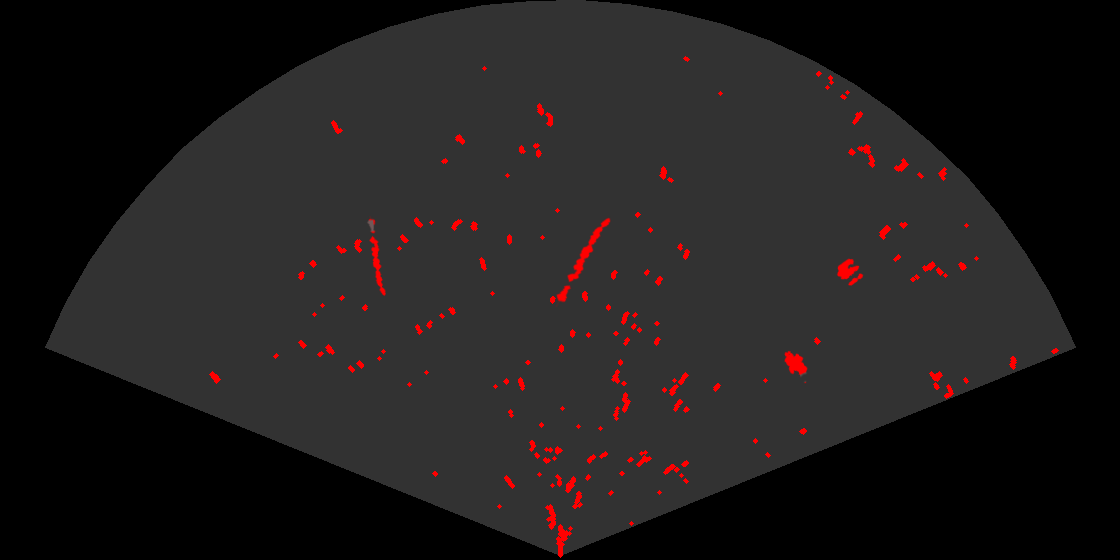AUV: (783, 349, 809, 385)
ball: (835, 257, 865, 287)
chain: (554, 216, 612, 307), (366, 216, 387, 298)
